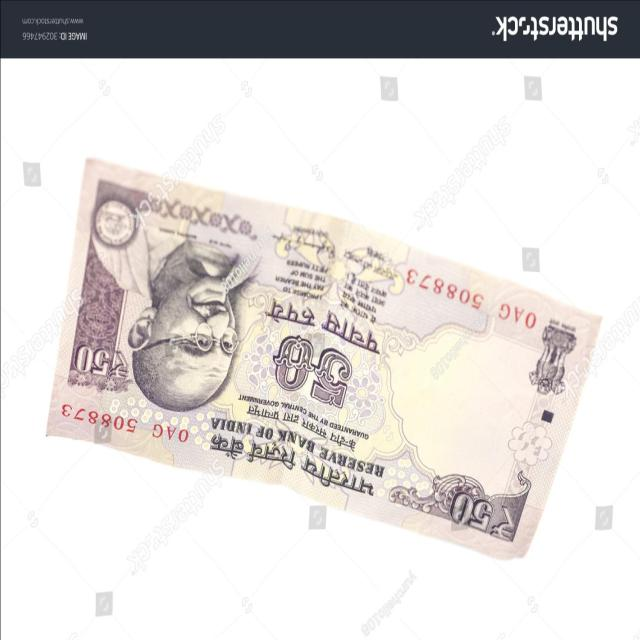50IndianRupees: (35, 166, 599, 568)
